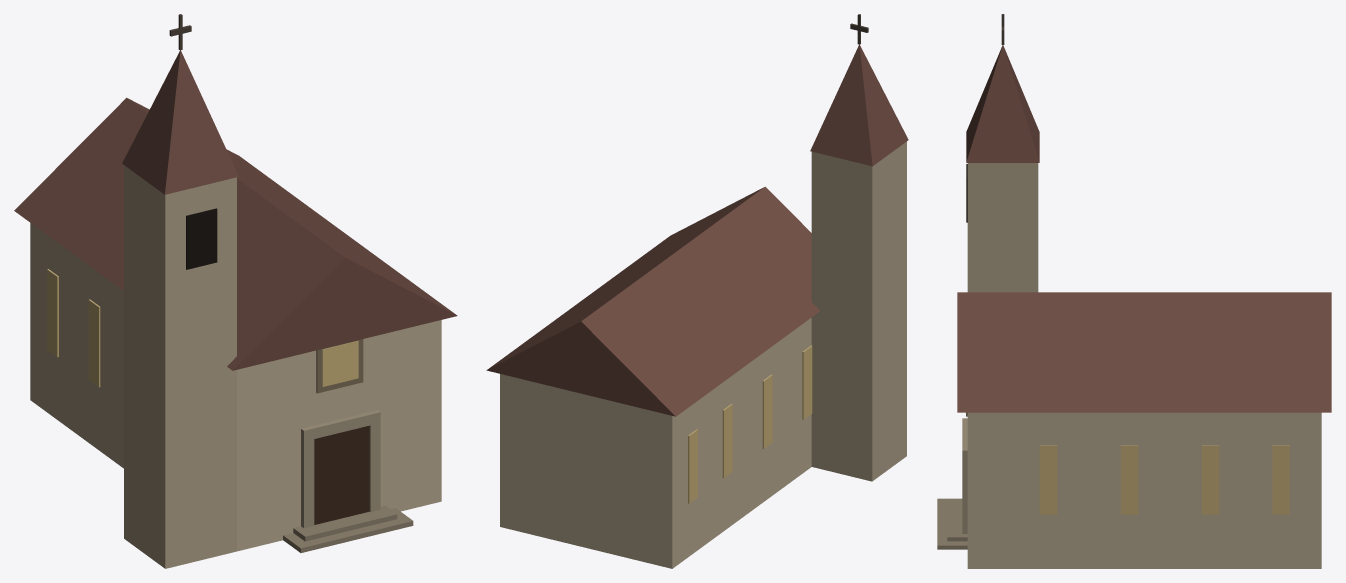
Rendered from chiesa.obj.
3 views of the same model, side by side, from view 1: azimuth 30°, elevation 25°; view 2: azimuth 150°, elevation 25°; view 3: azimuth 270°, elevation 25° (orthographic). The views are drawn at different scales.
Visible parts, largest first — view 1: parte_01, parte_00, parte_02, parte_05, parte_09, parte_06, parte_07, parte_04, parte_08; view 2: parte_01, parte_00, parte_02, parte_09; view 3: parte_00, parte_01, parte_02, parte_09, parte_07, parte_06.
Boxes of the visible parts, box(x1,y1,x2,y2) form: parte_01: box(14, 50, 457, 370); parte_00: box(30, 223, 441, 551); parte_02: box(124, 165, 236, 568); parte_05: box(314, 425, 369, 524); parte_09: box(47, 269, 358, 387); parte_06: box(301, 410, 380, 528); parte_07: box(283, 505, 413, 552); parte_04: box(186, 208, 217, 269); parte_08: box(316, 339, 363, 393); parte_01: box(486, 44, 908, 416); parte_00: box(500, 318, 811, 568); parte_02: box(811, 141, 906, 481); parte_09: box(688, 345, 812, 503); parte_00: box(967, 412, 1321, 568); parte_01: box(957, 45, 1331, 412); parte_02: box(967, 163, 1038, 292); parte_09: box(1039, 445, 1289, 514); parte_07: box(937, 498, 967, 549); parte_06: box(962, 418, 967, 533).
Bounding box in the file's own units: 11.25 × 19.8 × 15.6.
